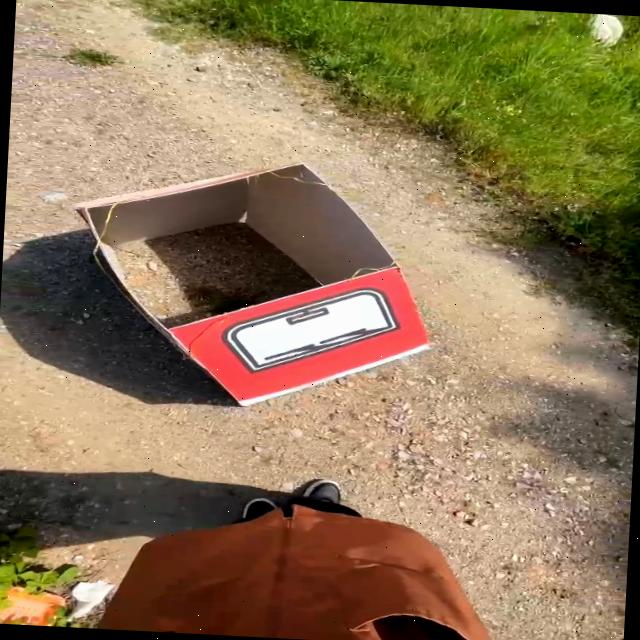red_car: (7, 113, 517, 436)
